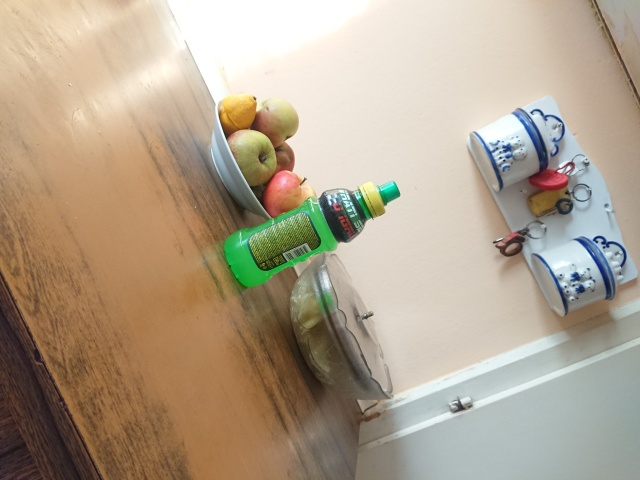Vindi Iso Sport Lemon-Grapefruit 500mL: (221, 178, 403, 291)
